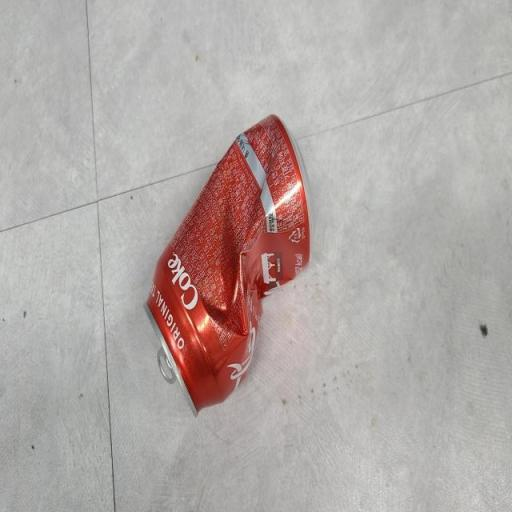metal: (130, 104, 322, 420)
